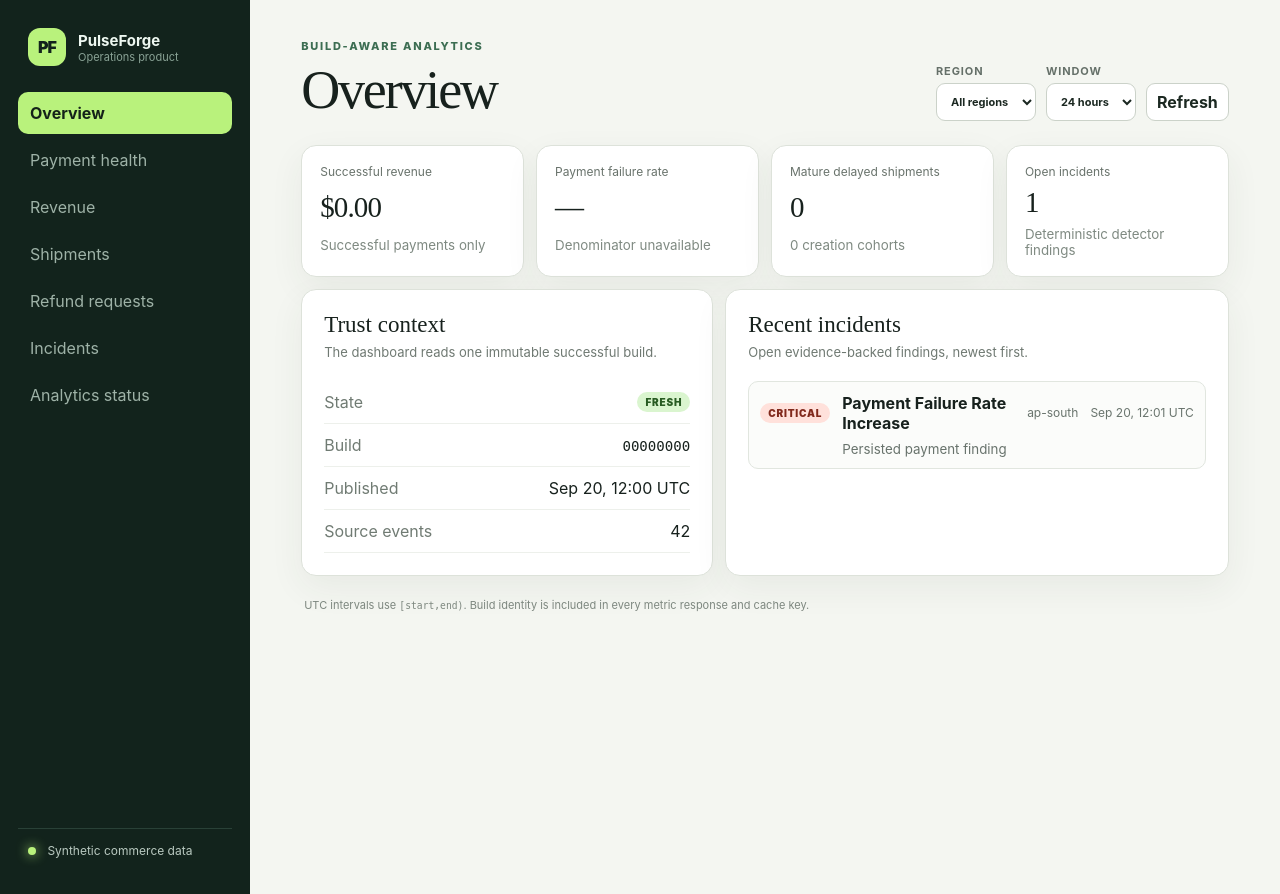
Test: operations dashboard › shows explanation errors independently of existing incident details
Click the button "payment failure rate increase" at [795, 412], box [748,380,1206,468]
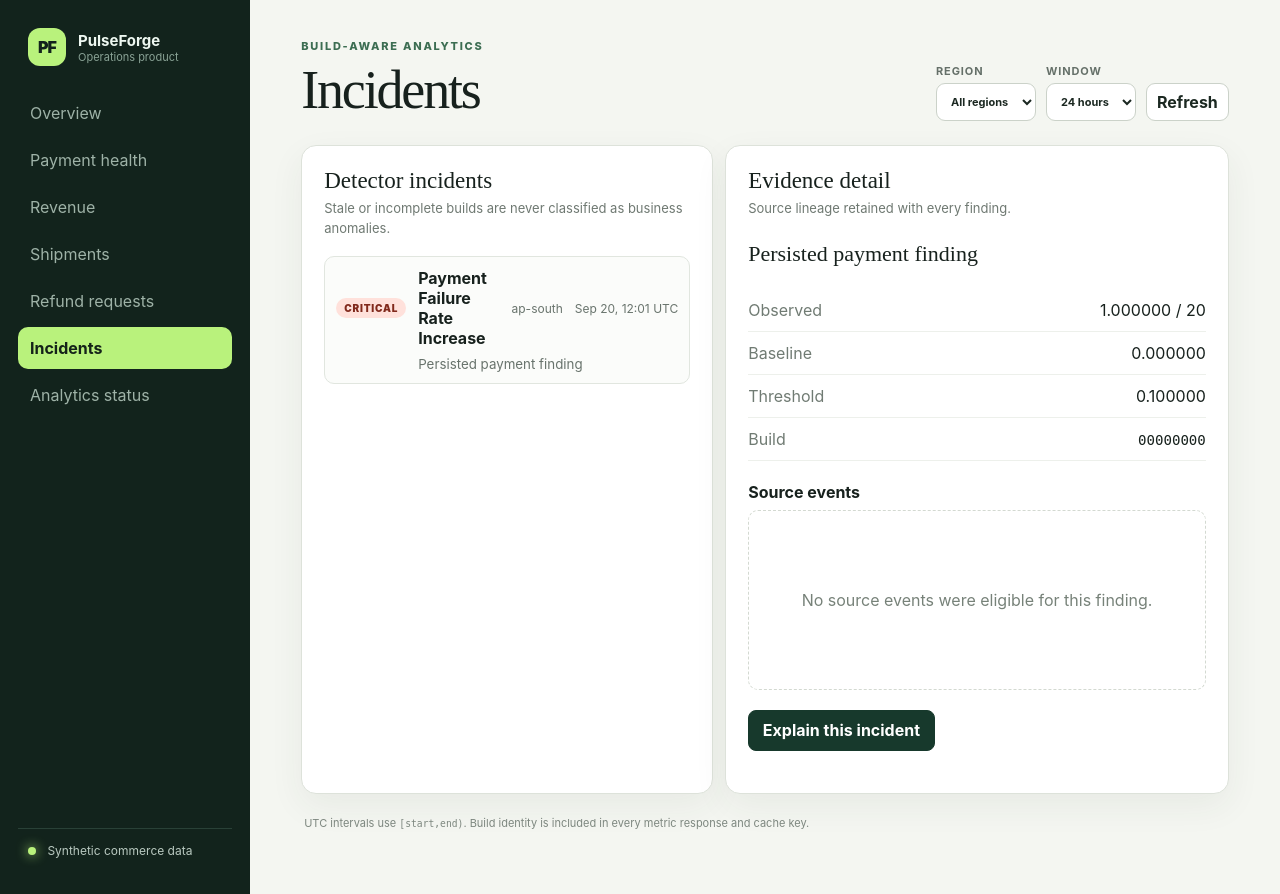
Click the button "Explain this incident" at [841, 730], box [748,710,935,751]
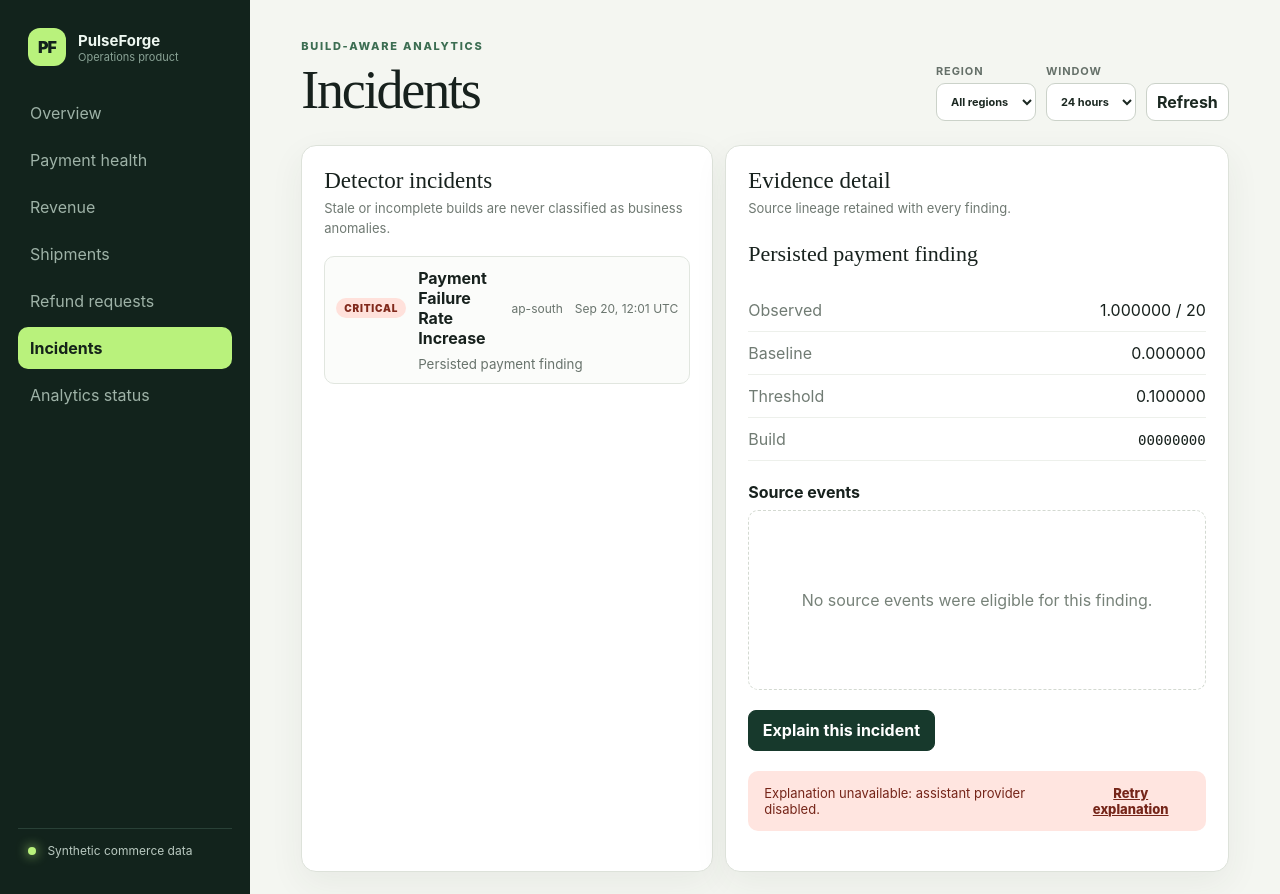
Check: the heading "Persisted payment finding" is shown, box [748,240,978,266]
Check: the text "Explanation unavailable: assistant provider disabled. Retry explanation" is shown, box [748,771,1206,831]
Check: the button "Retry explanation" is shown, box [1072,784,1190,818]
